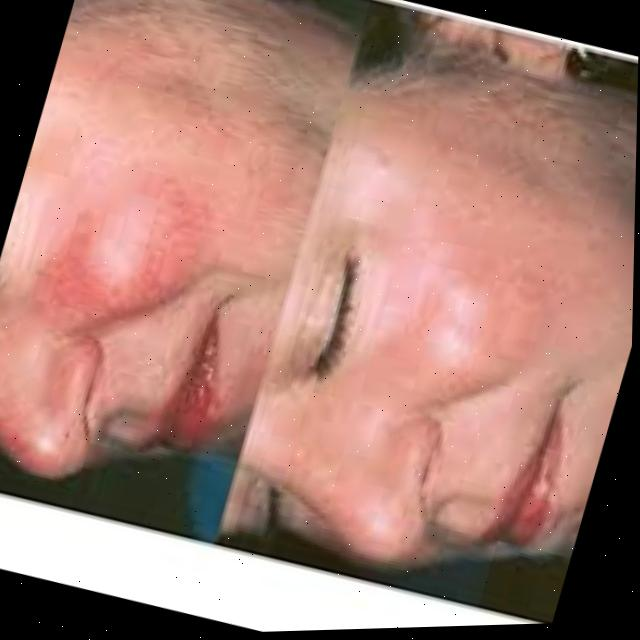Rosacea: (29, 155, 217, 332)
